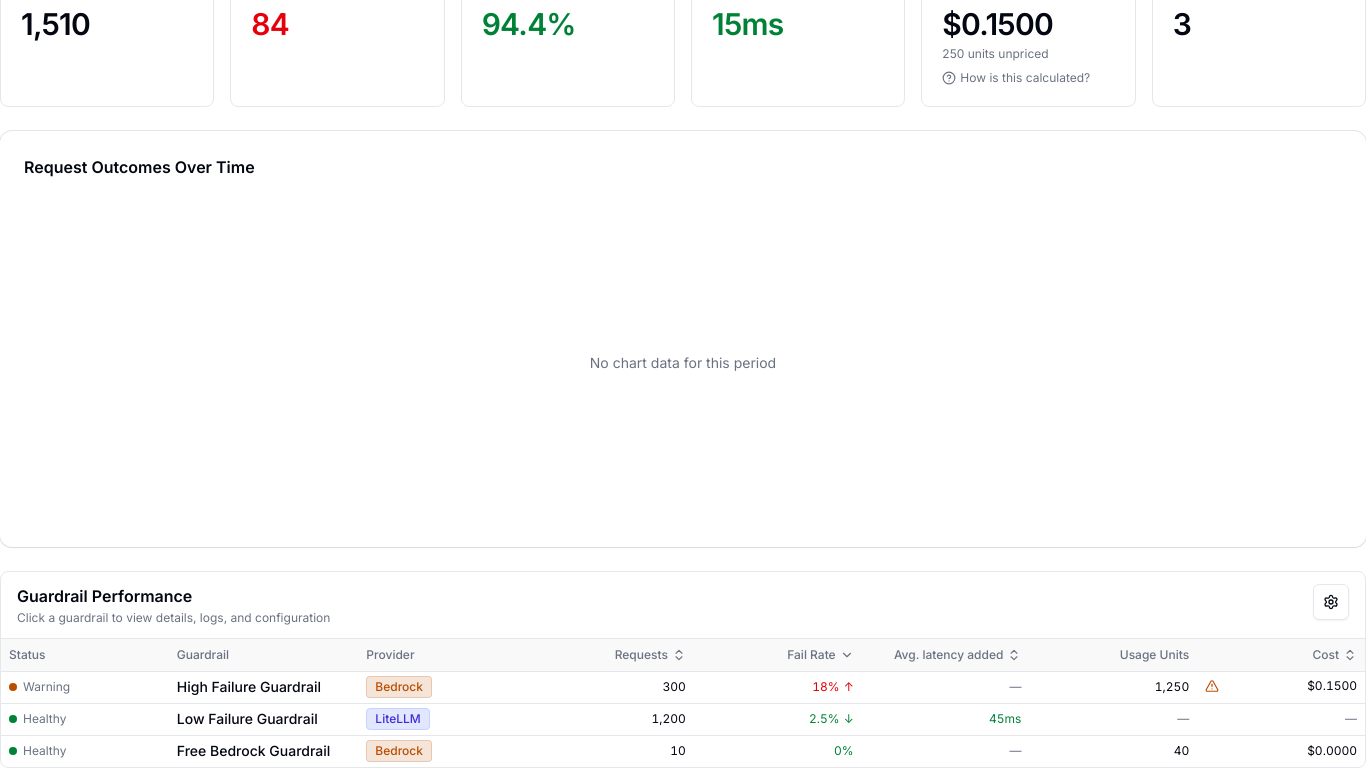
GuardrailsOverview › breaks the usage units down per counter on hover
(page scrolled)
Hover over the text "1,250": (1172, 686) [1155,679,1189,694]
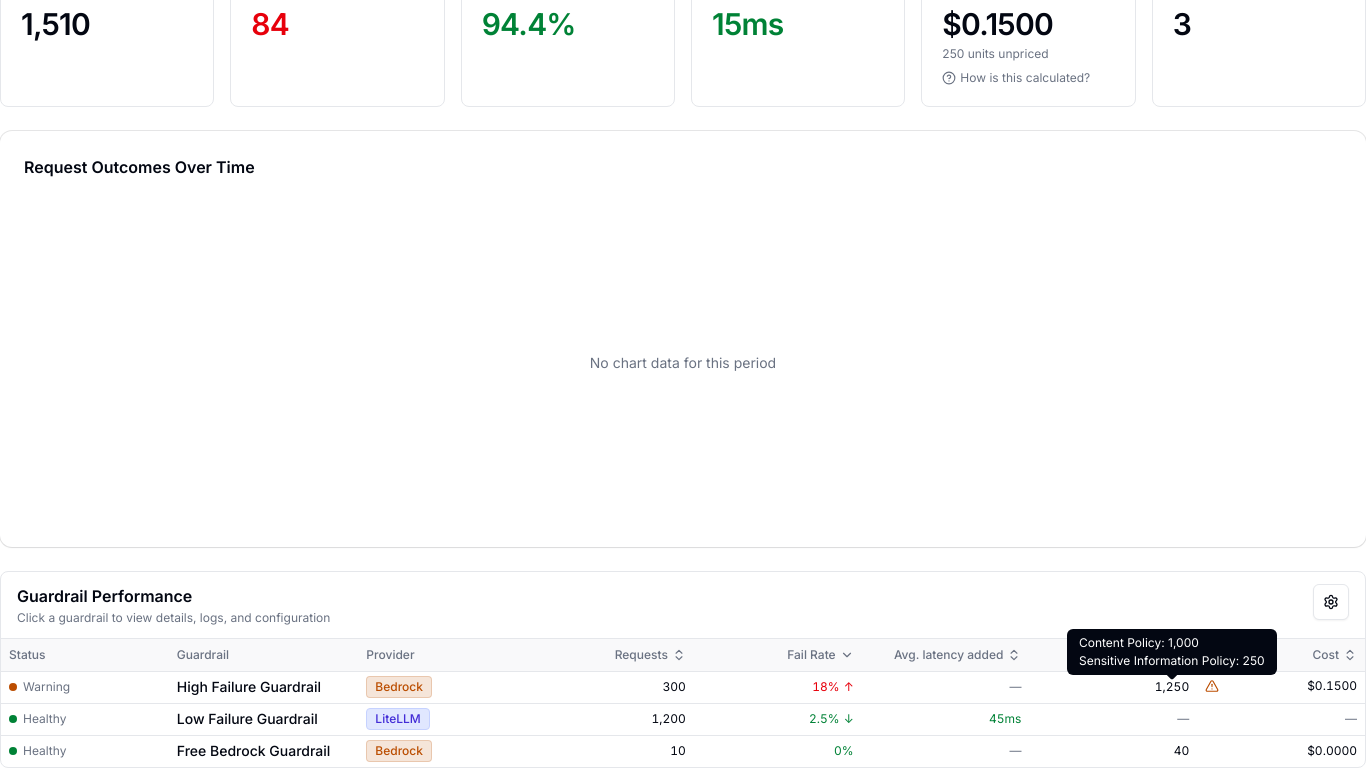
expect the list item "Content Policy: 1,000" is shown: met, box [1079,635,1199,650]
expect the list item "Sensitive Information Policy: 250" is shown: met, box [1079,653,1265,669]
